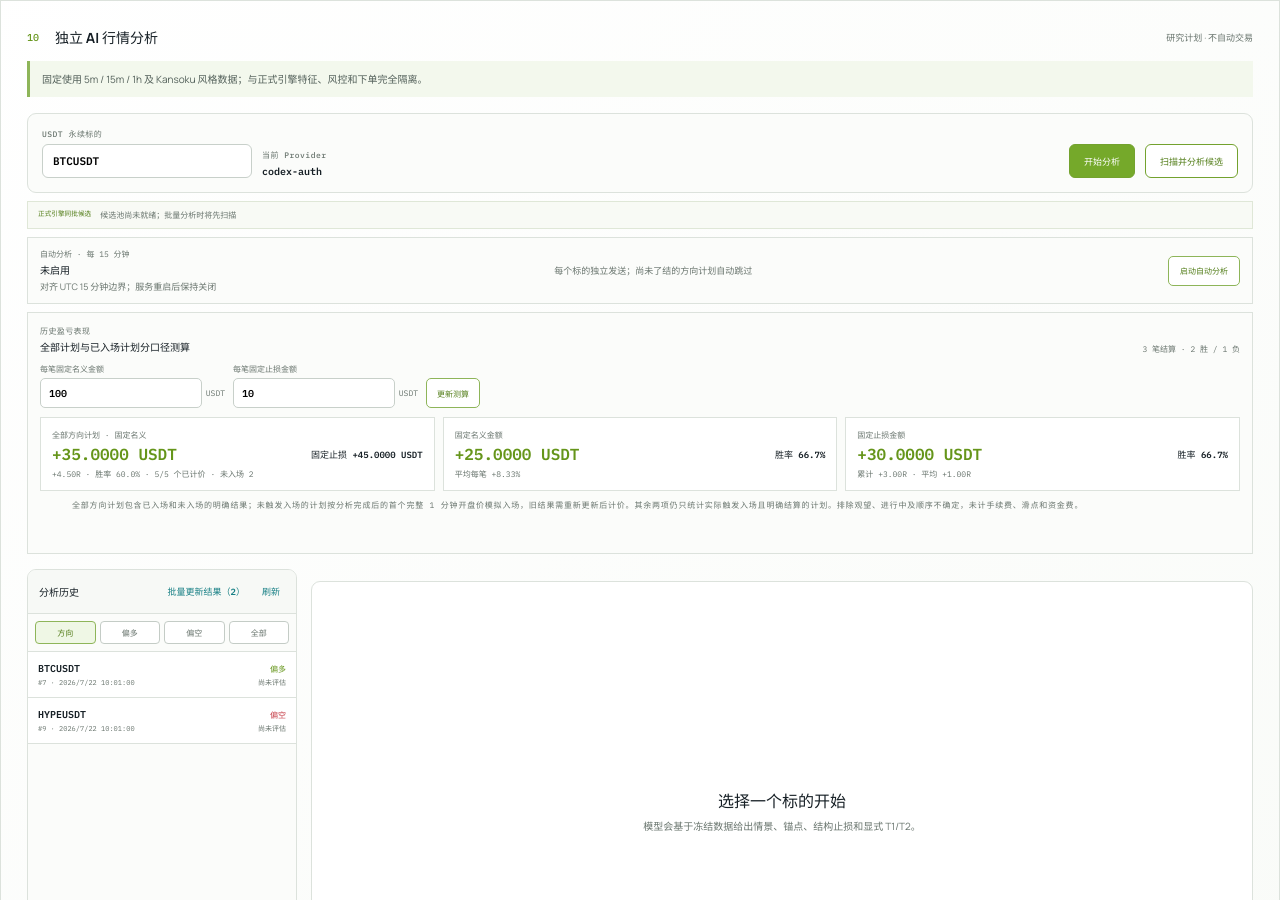
Test: MarketAnalysisPanel › batch refreshes outcomes and shows each result in analysis history
The width and height of the screenshot is (1280, 900).
Expected: the text "尚未评估" is shown 2 times, [258, 676, 286, 686]; [258, 722, 286, 732]
Click the button "批量更新结果（2）": (206, 592) [163, 580, 250, 603]
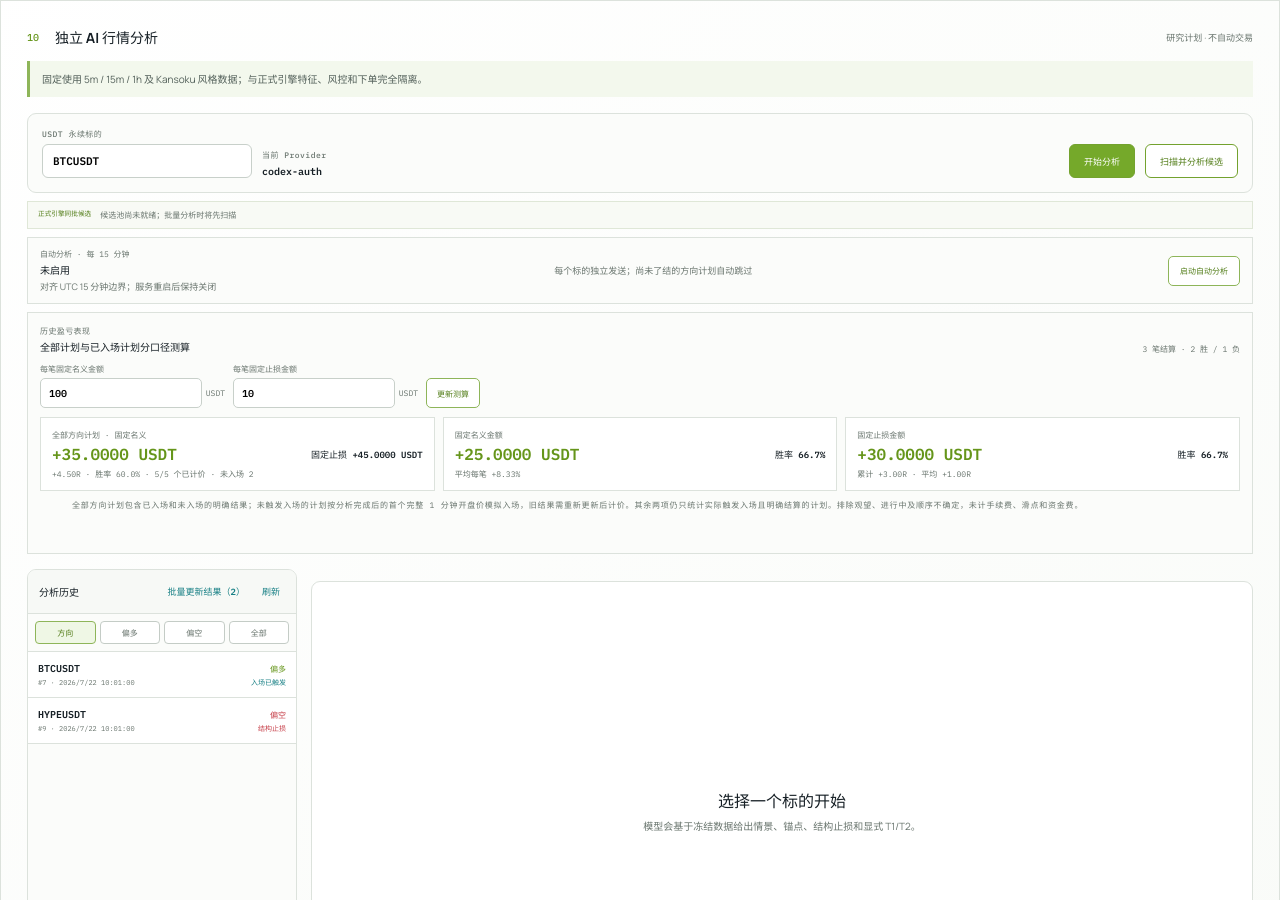
Expected: the text "入场已触发" is shown, [251, 676, 286, 686]
Expected: the text "结构止损" is shown, [258, 722, 286, 732]
